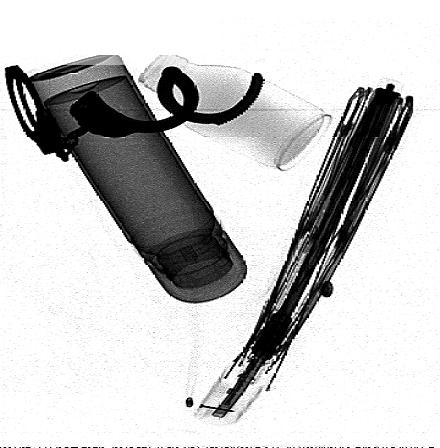HandCuffs: (4, 64, 265, 164)
